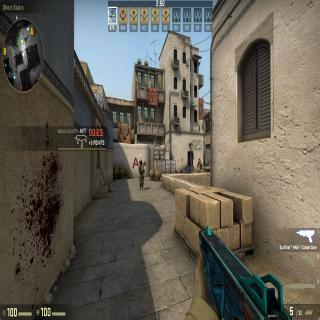CT-Body: (137, 159, 144, 190), (198, 160, 202, 172)
CT-Head: (138, 159, 143, 165)
